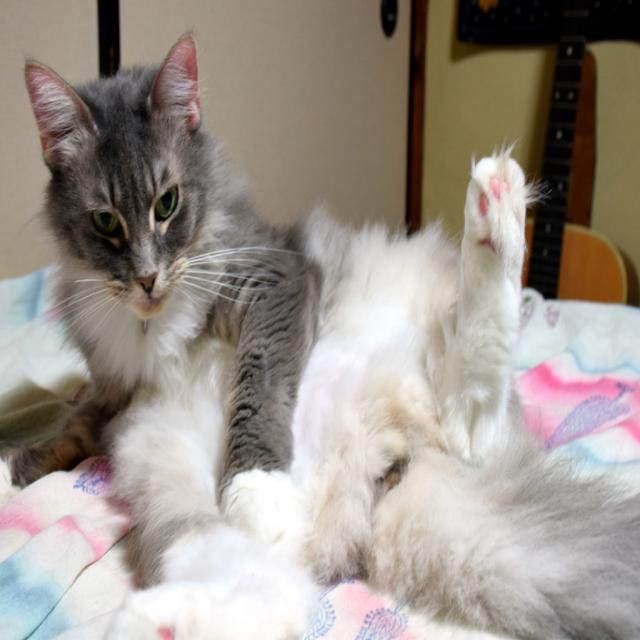Cat: (4, 23, 639, 639)
